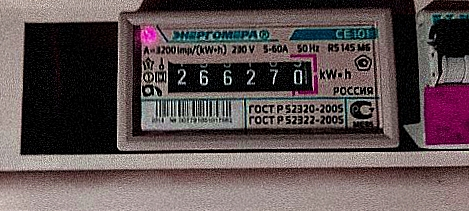0: (290, 66, 302, 86)
2: (173, 65, 188, 86), (243, 66, 256, 87)
6: (196, 67, 209, 87), (220, 67, 233, 86)
7: (266, 66, 279, 85)
screen: (153, 46, 327, 105)
